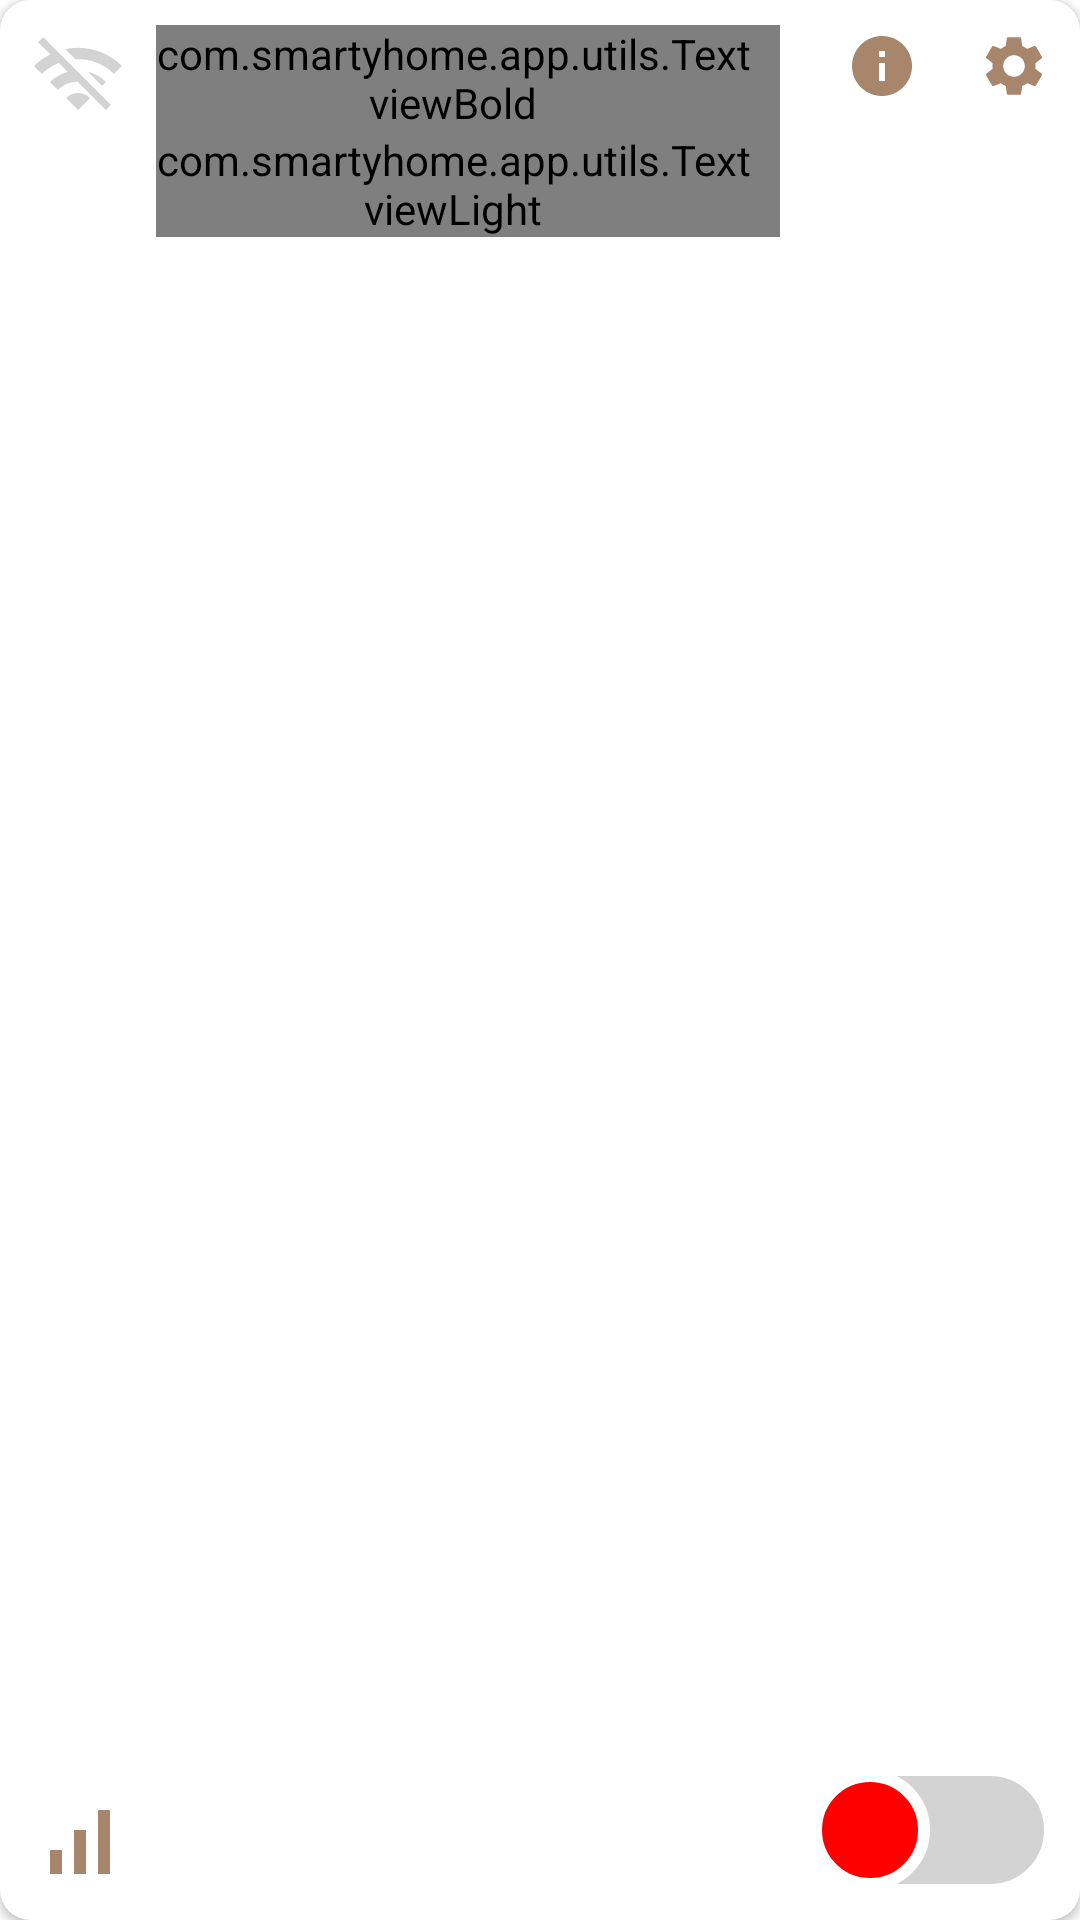

Icon click points for this 1080 x 1920 phone screenshot, format (x,y):
info: (882,66)
signal: (80,1842)
wifi off: (77,73)
